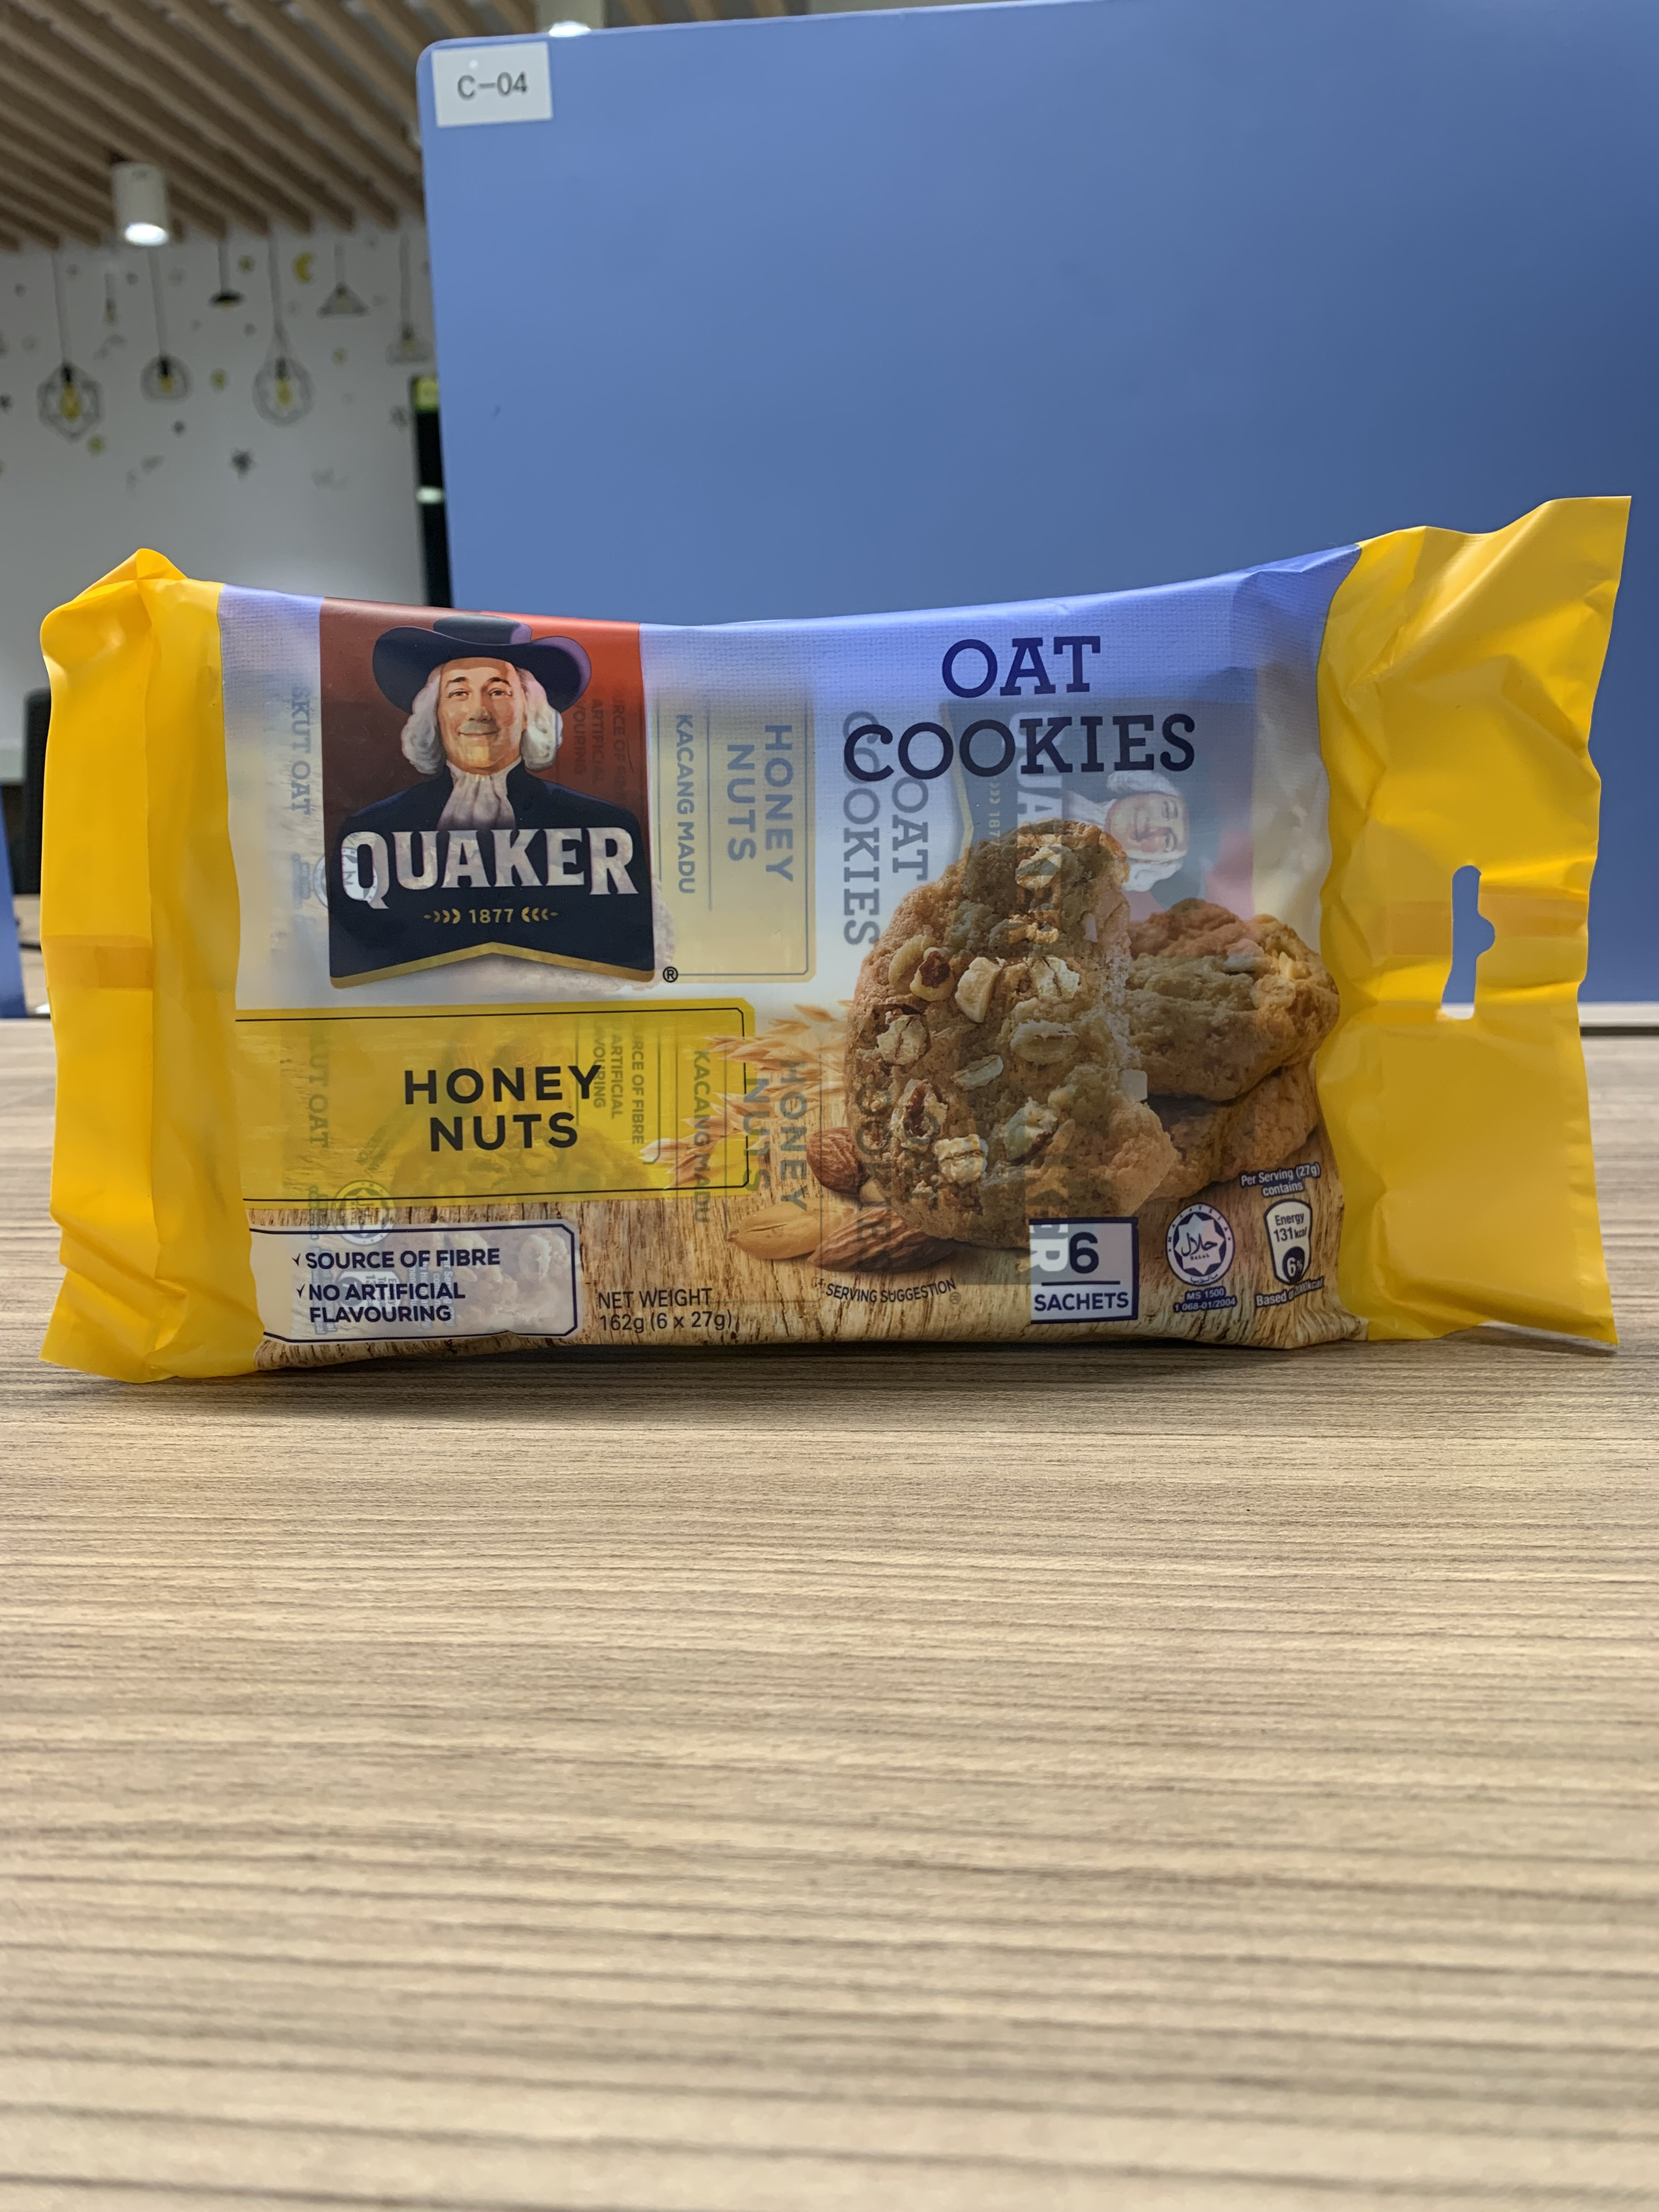cookies_100g-199g: (134, 610, 1516, 1325)
